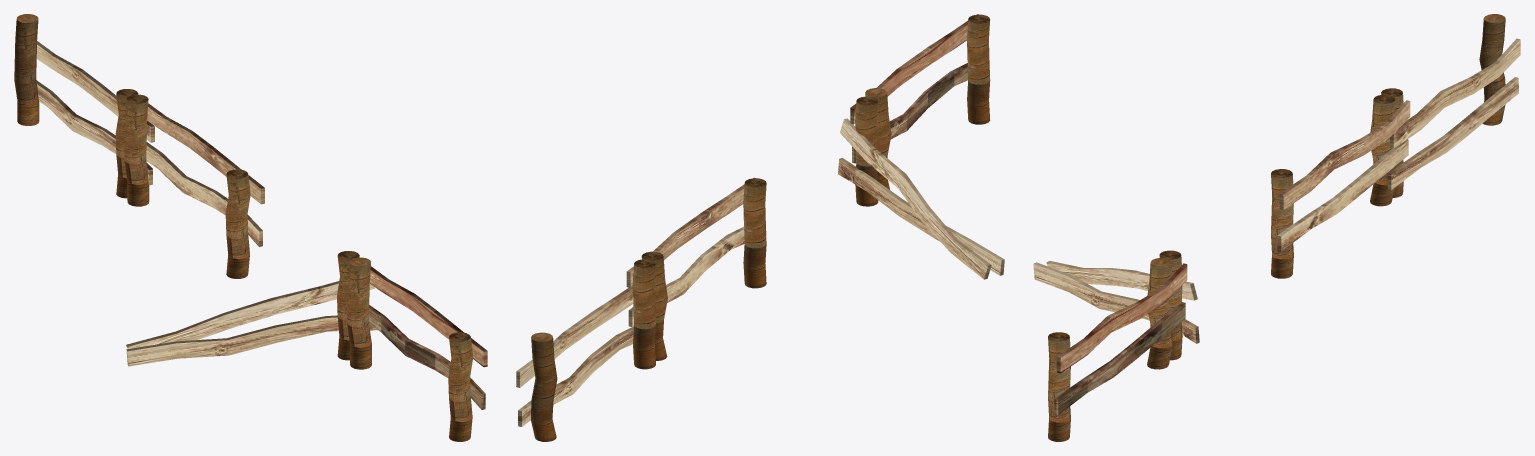
Rendered from Rangé 4 barrières droites cassé.FBX.
The picture shows the model from 3 angles, left to right: view 1: azimuth 30°, elevation 25°; view 2: azimuth 150°, elevation 25°; view 3: azimuth 330°, elevation 25°; orthographic projection.
Parts seen in each view (by area): view 1: Barrières droites; view 2: Barrières droites; view 3: Barrières droites.
Part boxes in pixels (x1,y1,x2,y2): Barrières droites: (14, 14, 487, 441); Barrières droites: (516, 14, 1004, 441); Barrières droites: (1033, 14, 1520, 441).
Bounding box in the file's own units: 129 × 59.94 × 495.
